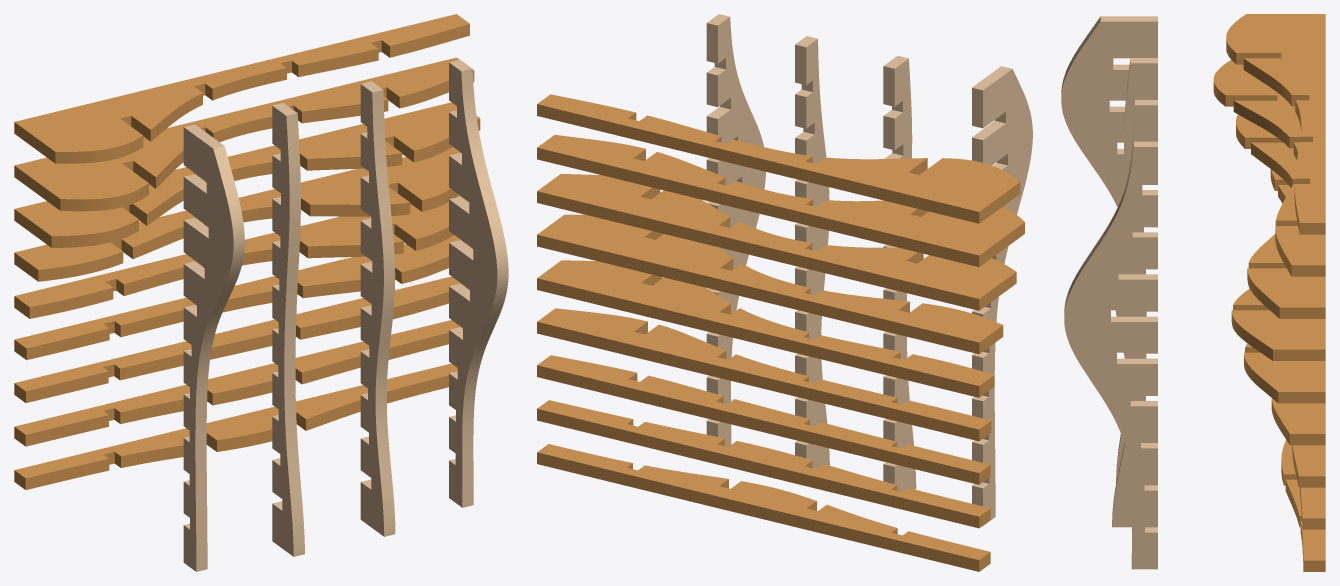
The picture shows the model from 3 angles, left to right: view 1: azimuth 30°, elevation 25°; view 2: azimuth 150°, elevation 25°; view 3: azimuth 270°, elevation 25°; orthographic projection. The views are drawn at different scales.
Size of the model in its own units: 1.18 by 1.11 by 0.6301.
